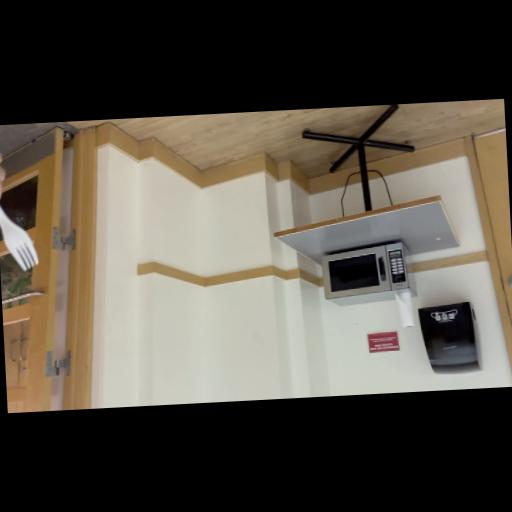utensil: (0, 183, 38, 290)
